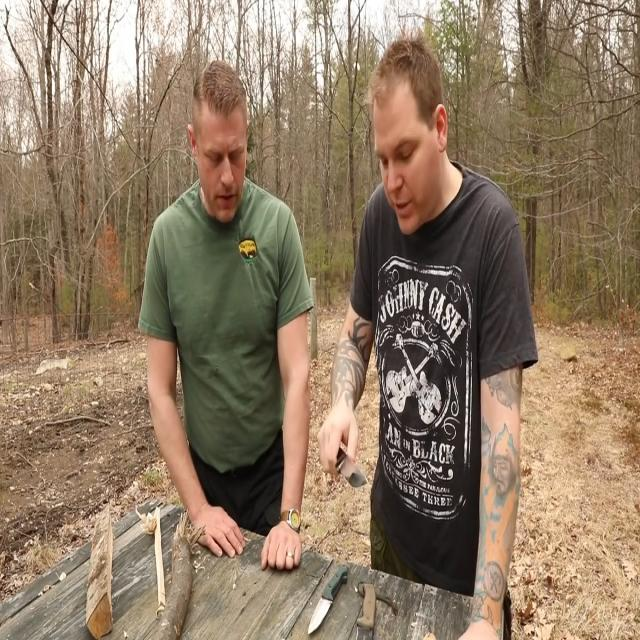knife: (306, 562, 352, 640), (337, 453, 374, 494), (356, 572, 377, 640)
